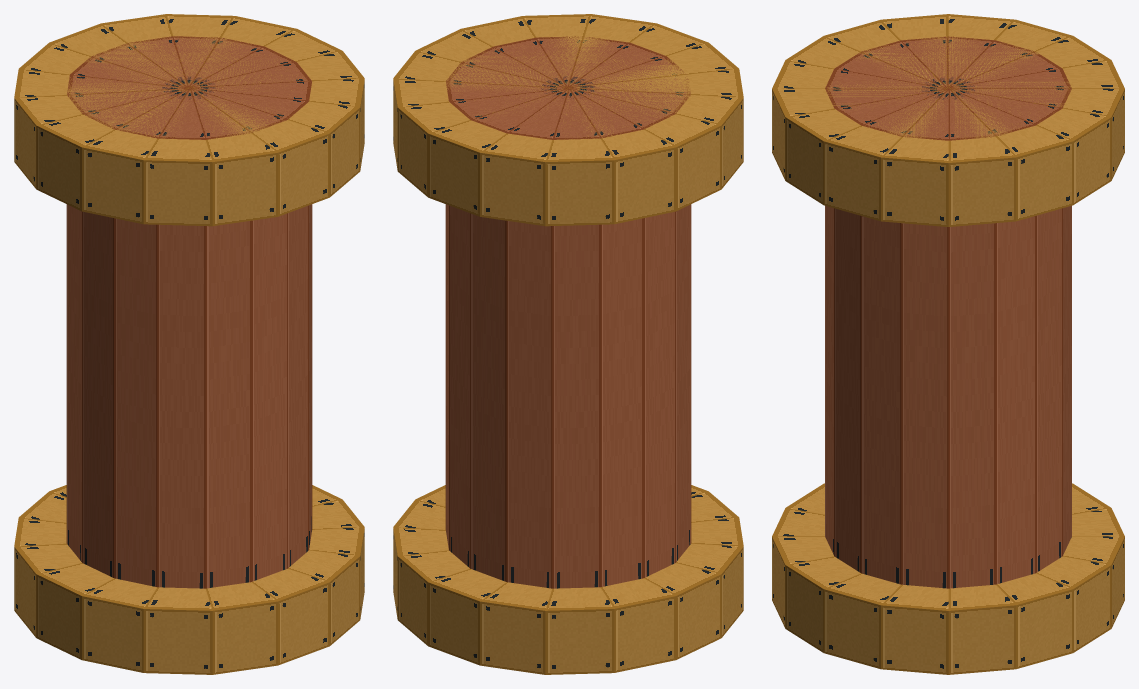
The model's file is detail_pipe_riser.obj.
The picture shows the model from 3 angles, left to right: view 1: azimuth 30°, elevation 25°; view 2: azimuth 150°, elevation 25°; view 3: azimuth 270°, elevation 25°; orthographic projection.
Size of the model in its own units: 0.625 by 1 by 0.625.
